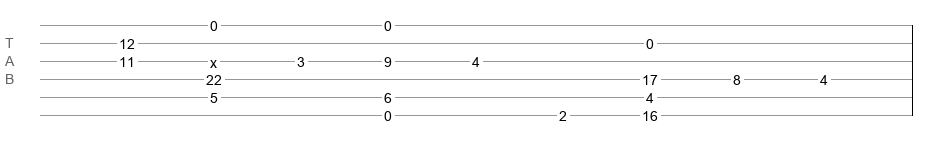0: (210, 18, 218, 28), (384, 108, 392, 118), (384, 18, 392, 28), (646, 36, 654, 46)
11: (119, 54, 135, 64)
12: (119, 36, 135, 46)
16: (642, 108, 658, 118)
17: (642, 72, 658, 82)
2: (559, 108, 567, 118)
22: (206, 72, 222, 82)
3: (297, 54, 305, 64)
4: (472, 54, 480, 64), (646, 90, 654, 100), (820, 72, 828, 82)
5: (210, 90, 218, 100)
6: (384, 90, 392, 100)
8: (733, 72, 741, 82)
9: (384, 54, 392, 64)
x: (210, 55, 217, 63)
